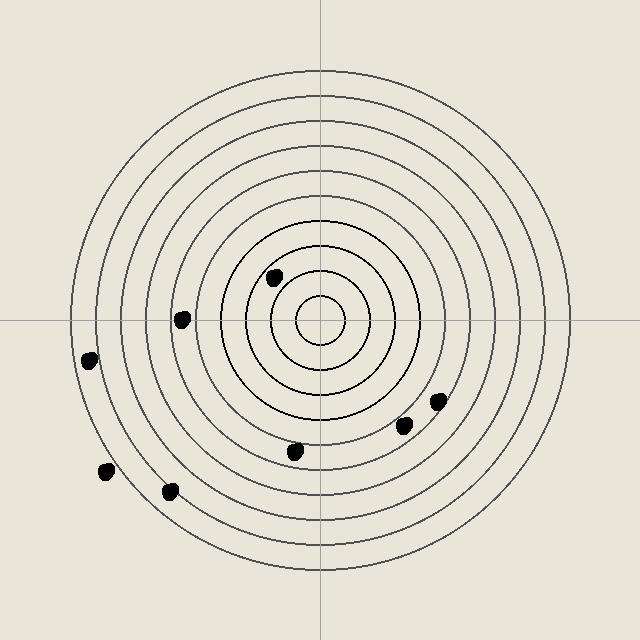random_scatter: (95, 461, 115, 481), (78, 350, 98, 370), (284, 441, 304, 461), (393, 415, 413, 435), (263, 267, 283, 287), (159, 481, 179, 501), (427, 391, 447, 411), (171, 309, 191, 329)
